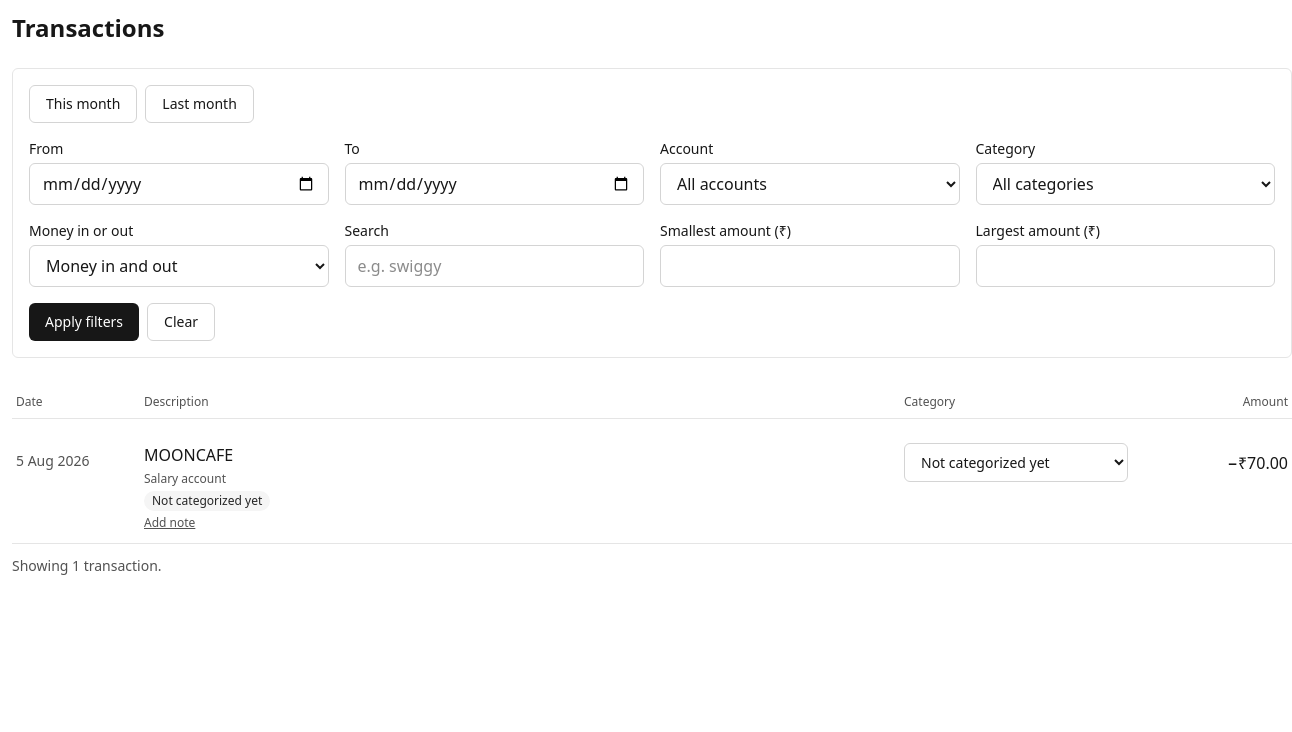
Test case: TransactionsView: changing a category › shows the API's refusal in the row
The width and height of the screenshot is (1292, 732).
Expected: the heading "Transactions" is shown, [12,11,164,44]
Select "Groceries" in the dropdown named "Category for": (1016, 462) [904,443,1128,482]
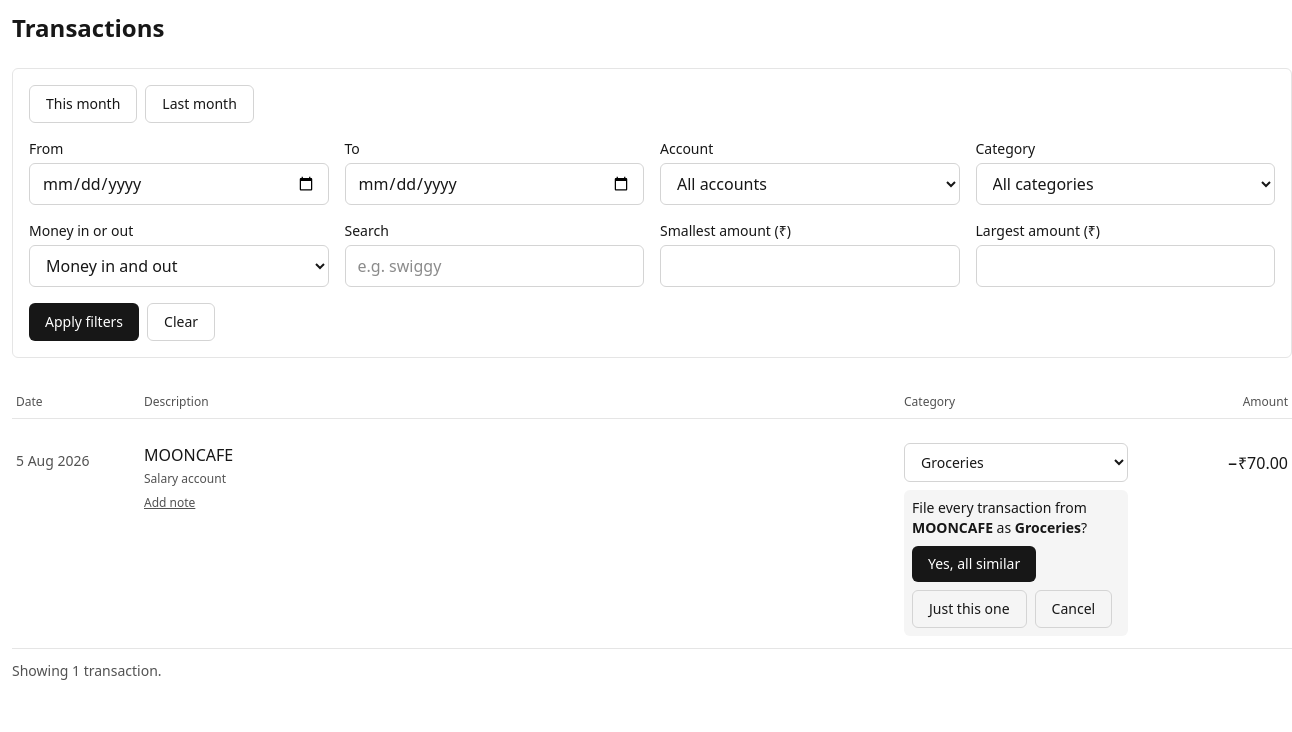
Click the button "Yes, all similar": (974, 564) [912,546,1036,582]
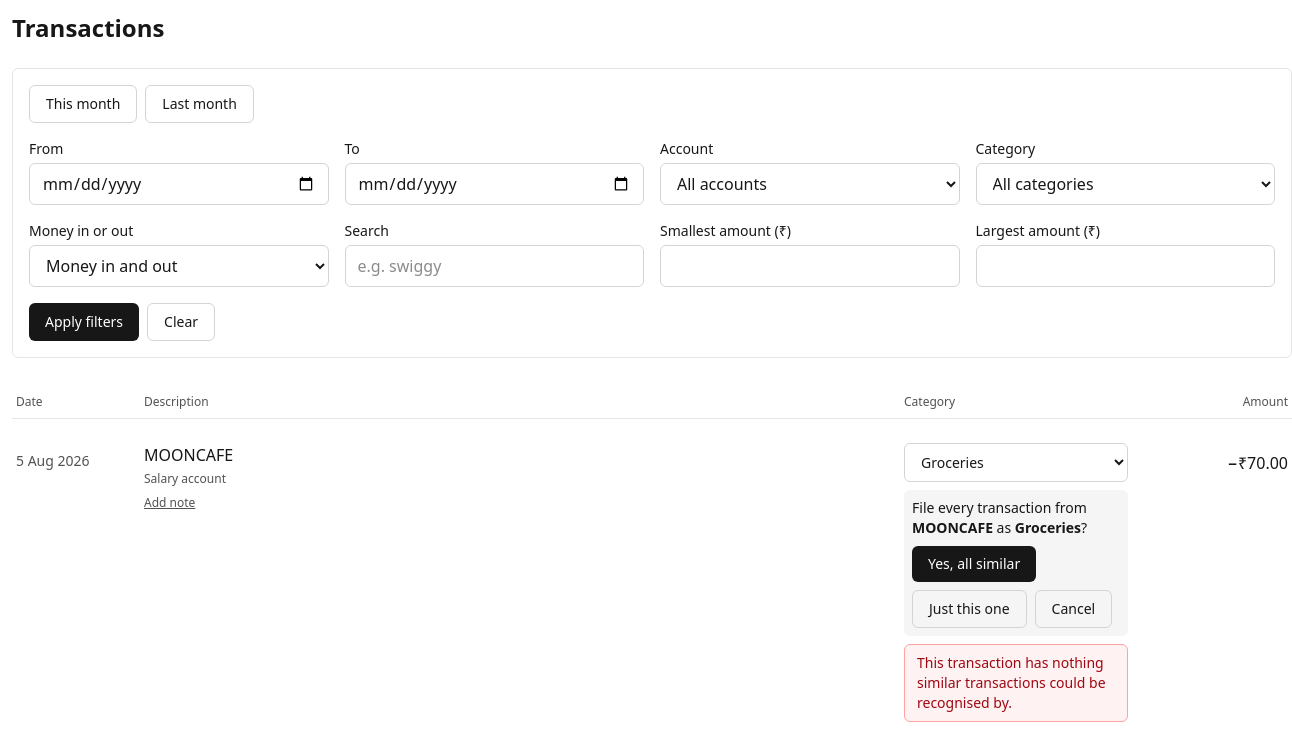
Now the message shows "nothing similar", box [917,653,1106,712]
